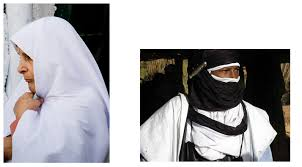middle_eastern_Female: (13, 46, 39, 92)
